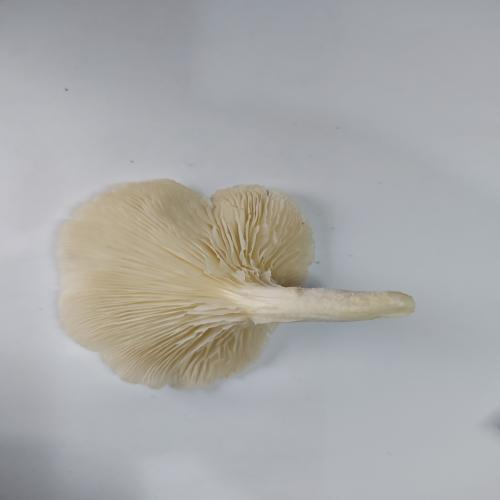Oyster Mushroom: (55, 178, 416, 391)
